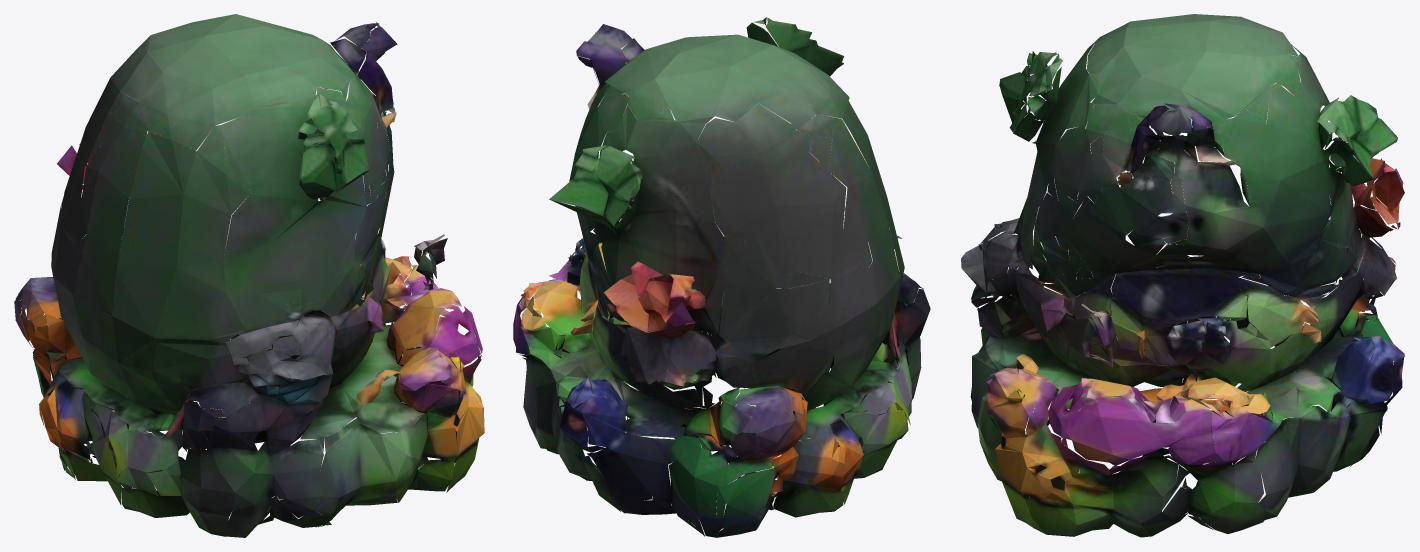
The picture shows the model from 3 angles, left to right: view 1: azimuth 30°, elevation 25°; view 2: azimuth 150°, elevation 25°; view 3: azimuth 270°, elevation 25°; orthographic projection. The views are drawn at different scales.
Parts seen in each view (by area): view 1: world; view 2: world; view 3: world.
Boxes of the visible parts, left/top/right/bottom form: world: left=14, top=14, right=484, bottom=537; world: left=513, top=17, right=930, bottom=537; world: left=961, top=14, right=1405, bottom=537.
Bounding box in the file's own units: 0.9046 × 1.01 × 0.9485.
1 material, 1 textured.
